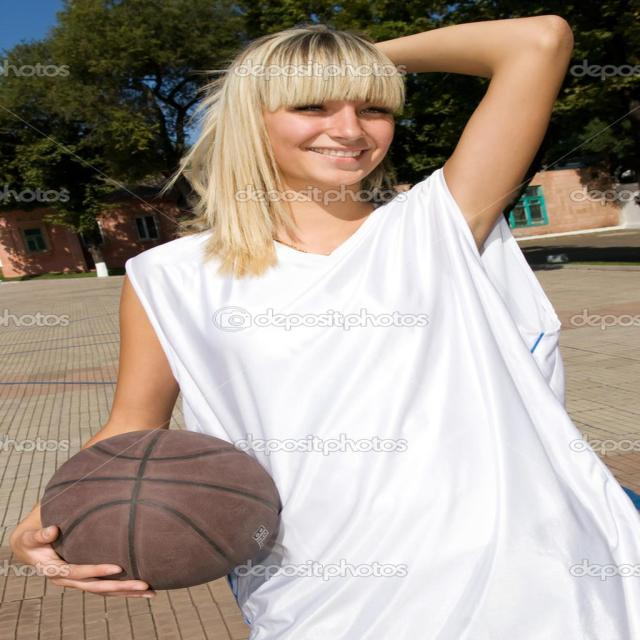Face: (235, 58, 405, 190)
